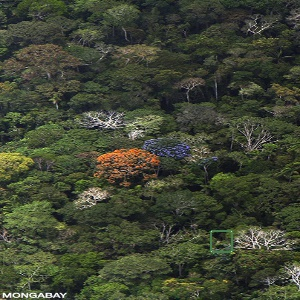square: (208, 228, 234, 254)
